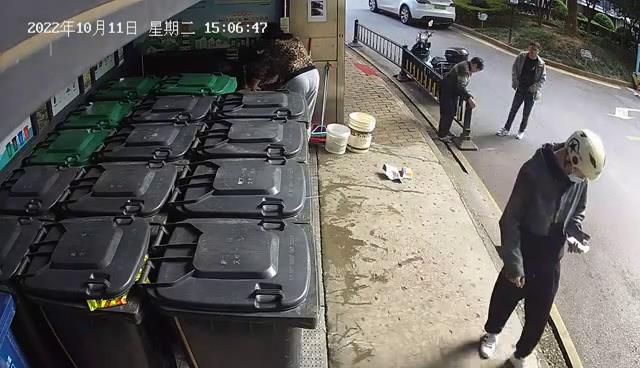person: (475, 123, 610, 368), (242, 20, 324, 146), (493, 38, 550, 144), (433, 55, 489, 144)
zhizhipin: (380, 162, 406, 185), (399, 164, 415, 182)
